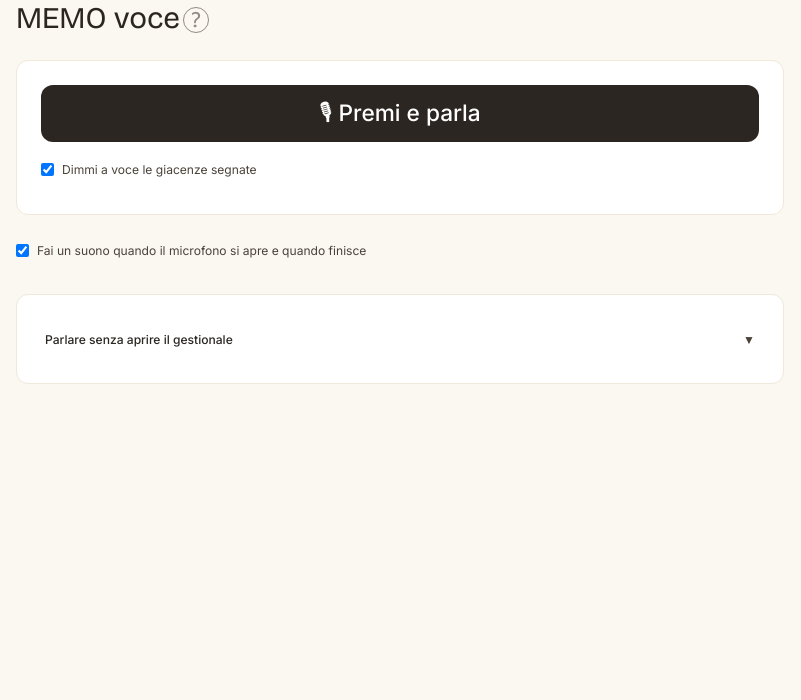
Scenario: 🔴 tre appuntamenti detti insieme restano tre › nascono TRE schede, ognuna col suo titolo, il suo giorno e il suo avviso
Click the button "🎙 Premi e parla". click: (400, 114)
box: [41,85,759,142]
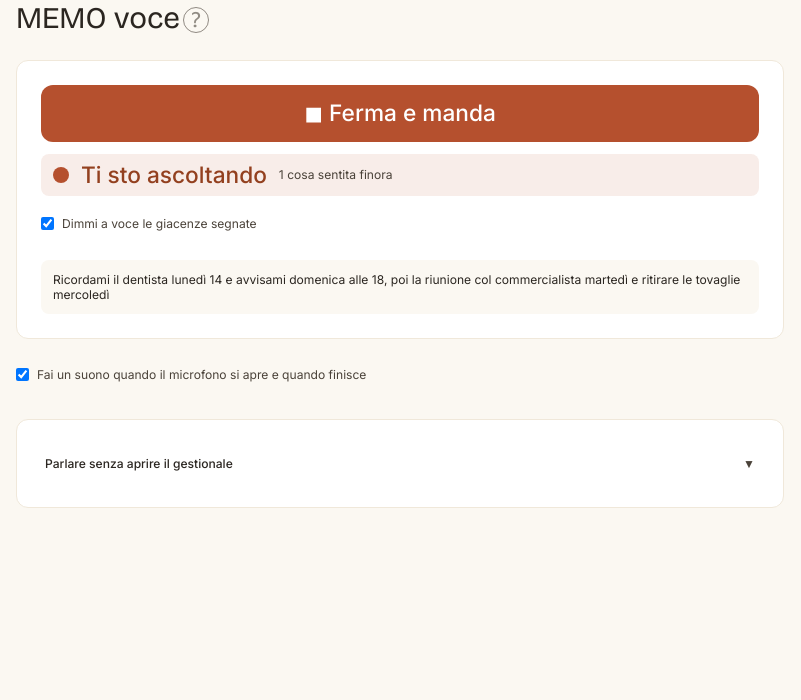
Click the button "◼ Ferma e manda". click: (400, 114)
box: [41,85,759,142]
(page scrolled)
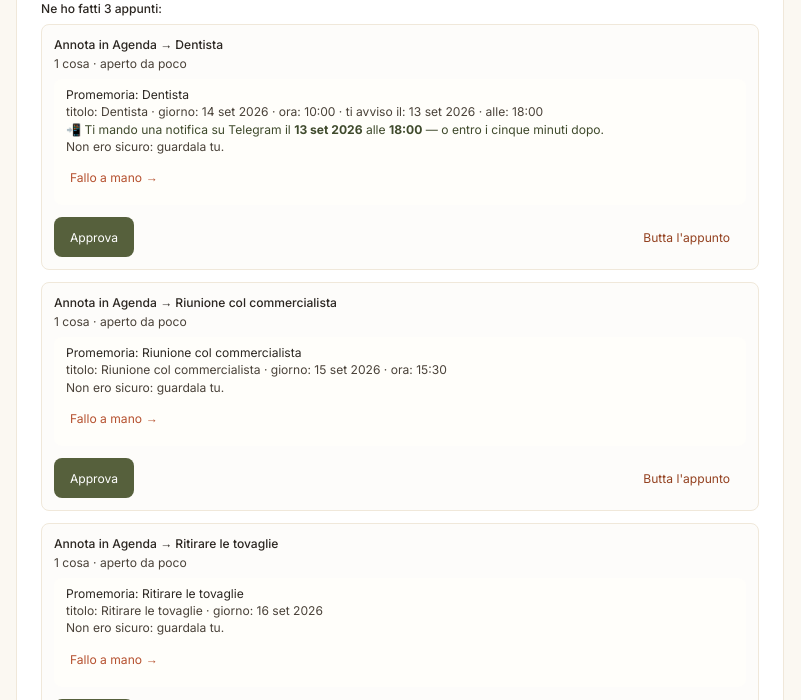
Result: the heading "Ne ho fatti 3 appunti:" is shown at [41,1,162,16]
Result: the text "Ti mando una notifica su Telegram" is shown at [66,122,291,136]
Result: the text "ora: 10:00" is shown at [66,104,543,119]
